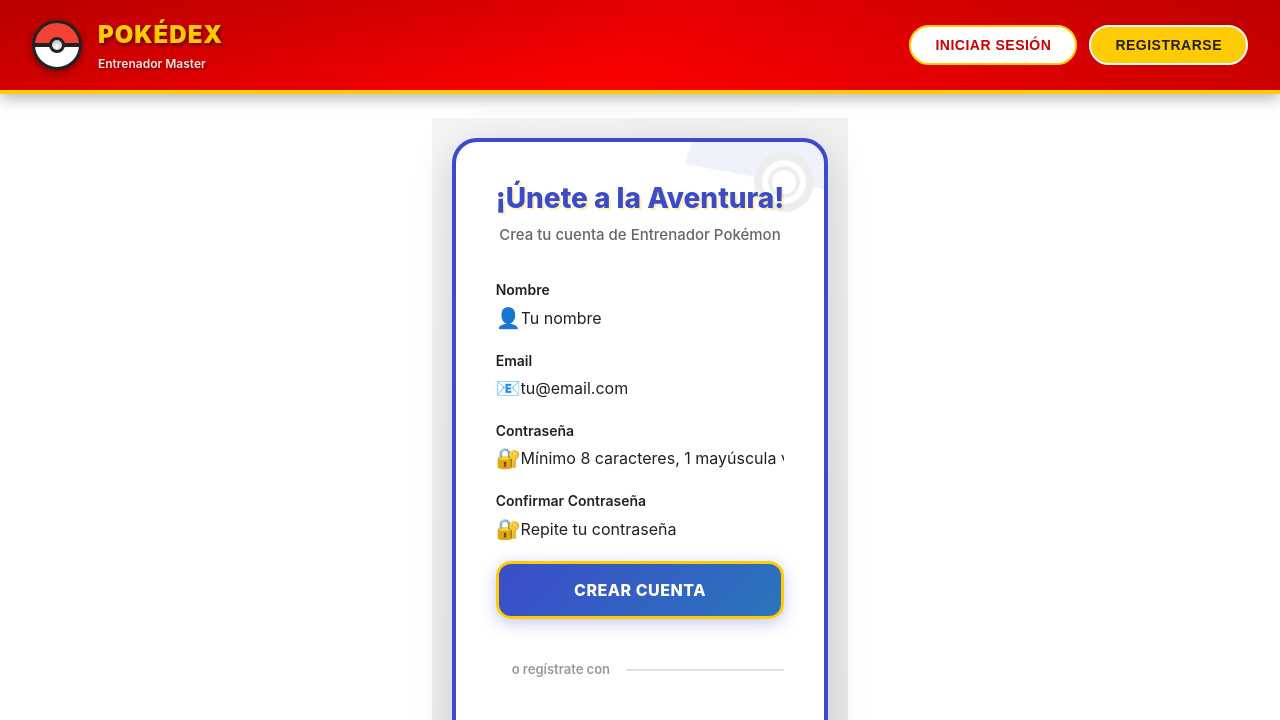
Test: E2E Tests - Pokédex Application › User Registration › should show validation errors for invalid input
// Email inválido
Type "invalid-email" into the field labelled "Email" at (653, 388), box [521,378,785,398]
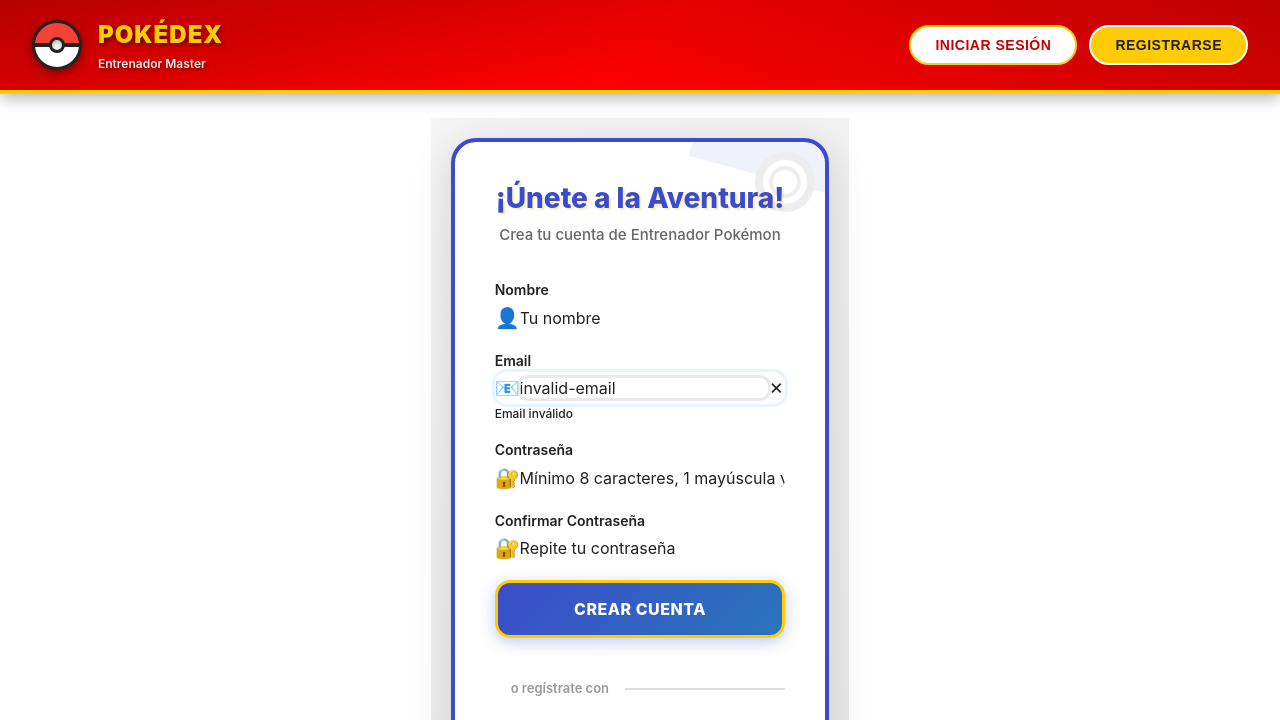
Now the icon with class "invalid" is shown, box [768,372,786,404]
